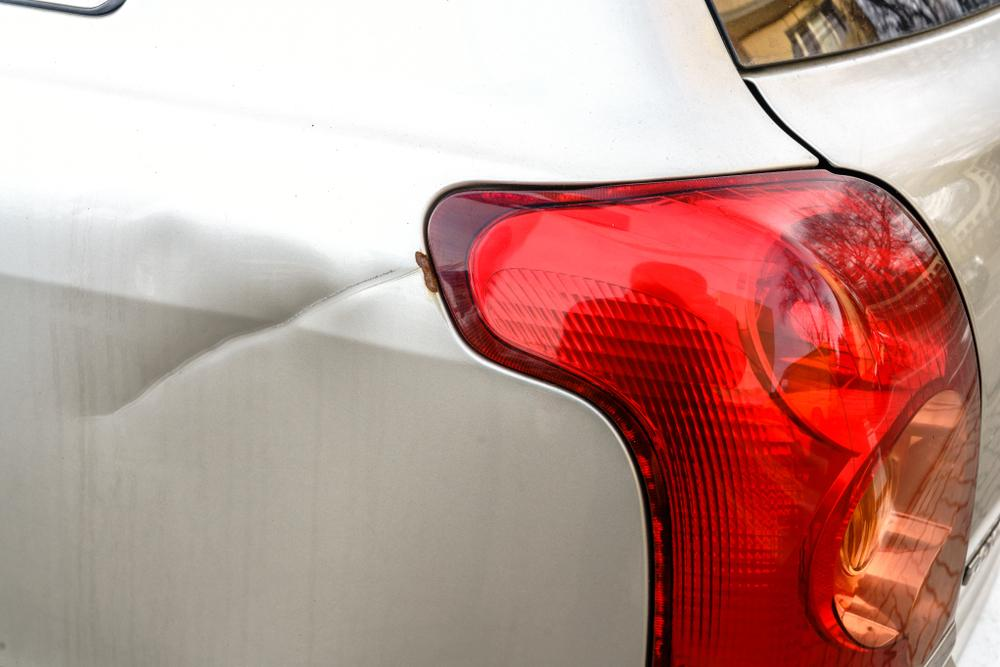dent: (69, 206, 429, 438)
